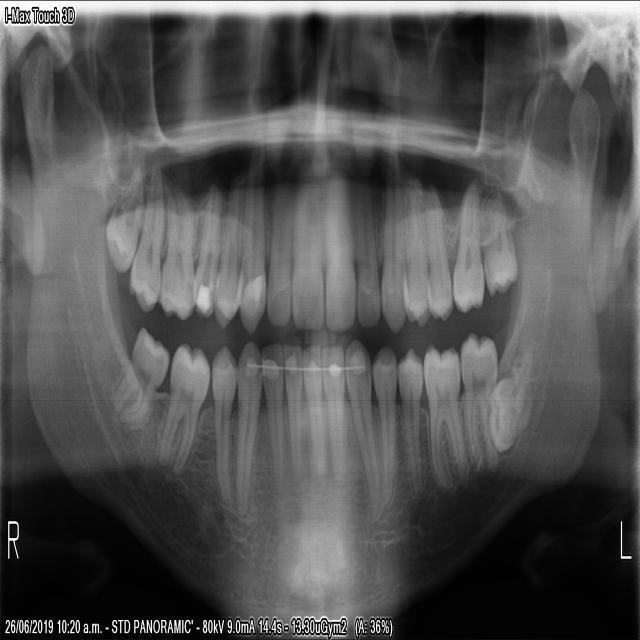LCD: (342, 335, 378, 518)
LCU: (377, 172, 406, 333)
LID: (318, 342, 343, 485), (300, 342, 325, 478)
LIU: (321, 167, 354, 331), (352, 170, 379, 327)
LMD: (419, 340, 464, 489), (457, 329, 496, 473), (486, 366, 536, 454)
LMU: (477, 175, 517, 295), (449, 179, 483, 314)
LPMD: (369, 342, 396, 504), (393, 346, 422, 496)
LPMU: (398, 170, 429, 327), (421, 184, 451, 321)
RCD: (232, 334, 260, 516)
RCU: (233, 168, 265, 335)
RID: (259, 337, 282, 494), (280, 336, 300, 481)
RIU: (288, 172, 322, 328), (263, 177, 289, 326)
RMD: (154, 338, 208, 473), (110, 323, 168, 422)
RMU: (154, 165, 194, 319), (125, 160, 163, 311), (101, 161, 142, 273)
RPMD: (207, 340, 235, 512)
RPMU: (210, 178, 242, 331), (189, 178, 220, 319)
